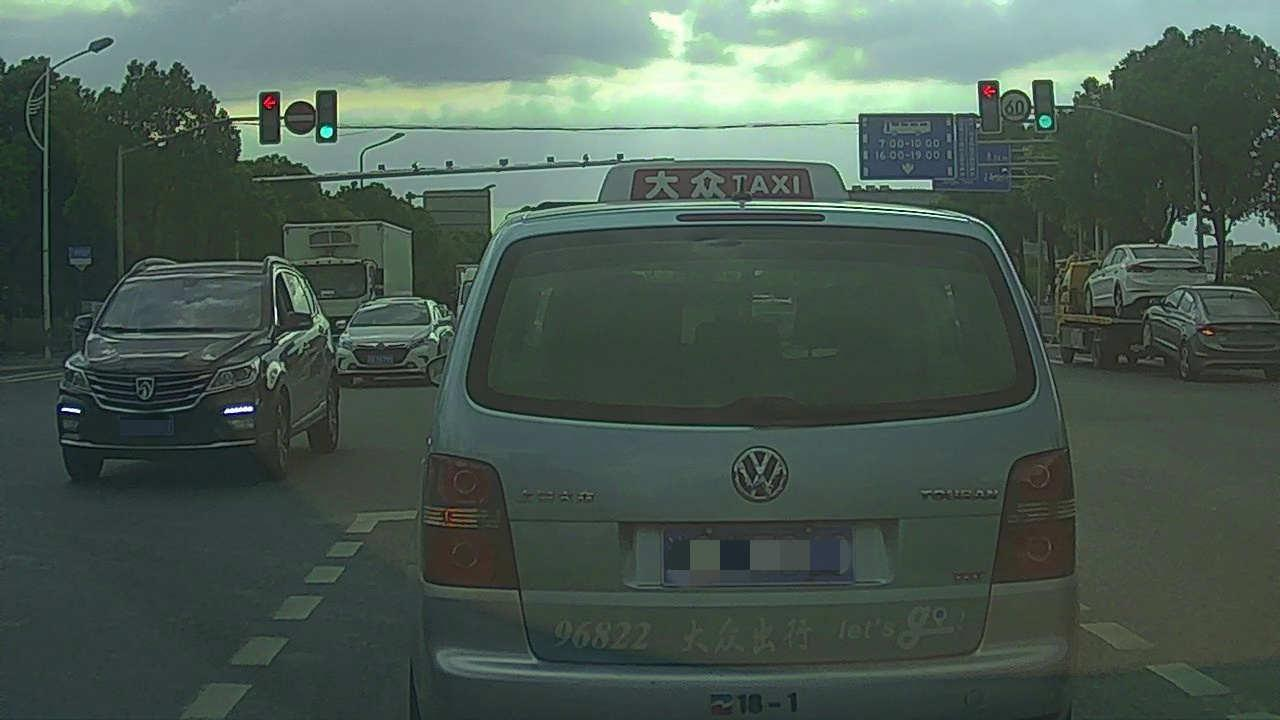traffic_light: (1034, 80, 1056, 132), (978, 81, 1000, 132), (259, 92, 280, 144), (317, 90, 337, 143)
